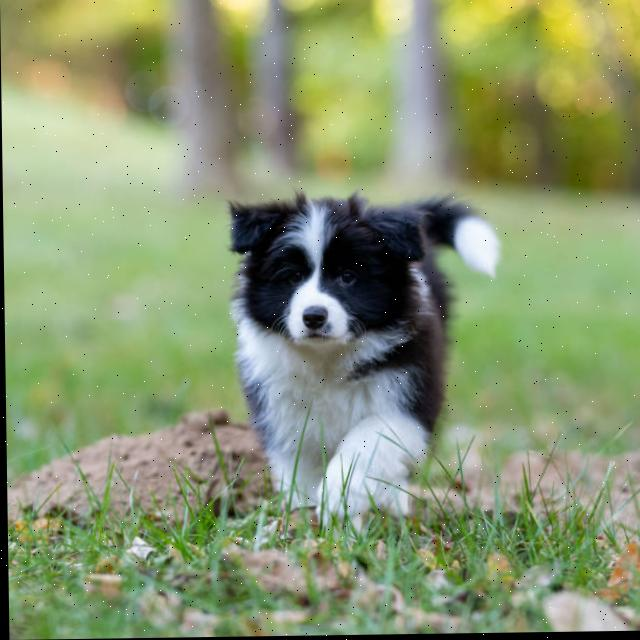BORDER_COLLIE: (181, 159, 521, 522)
